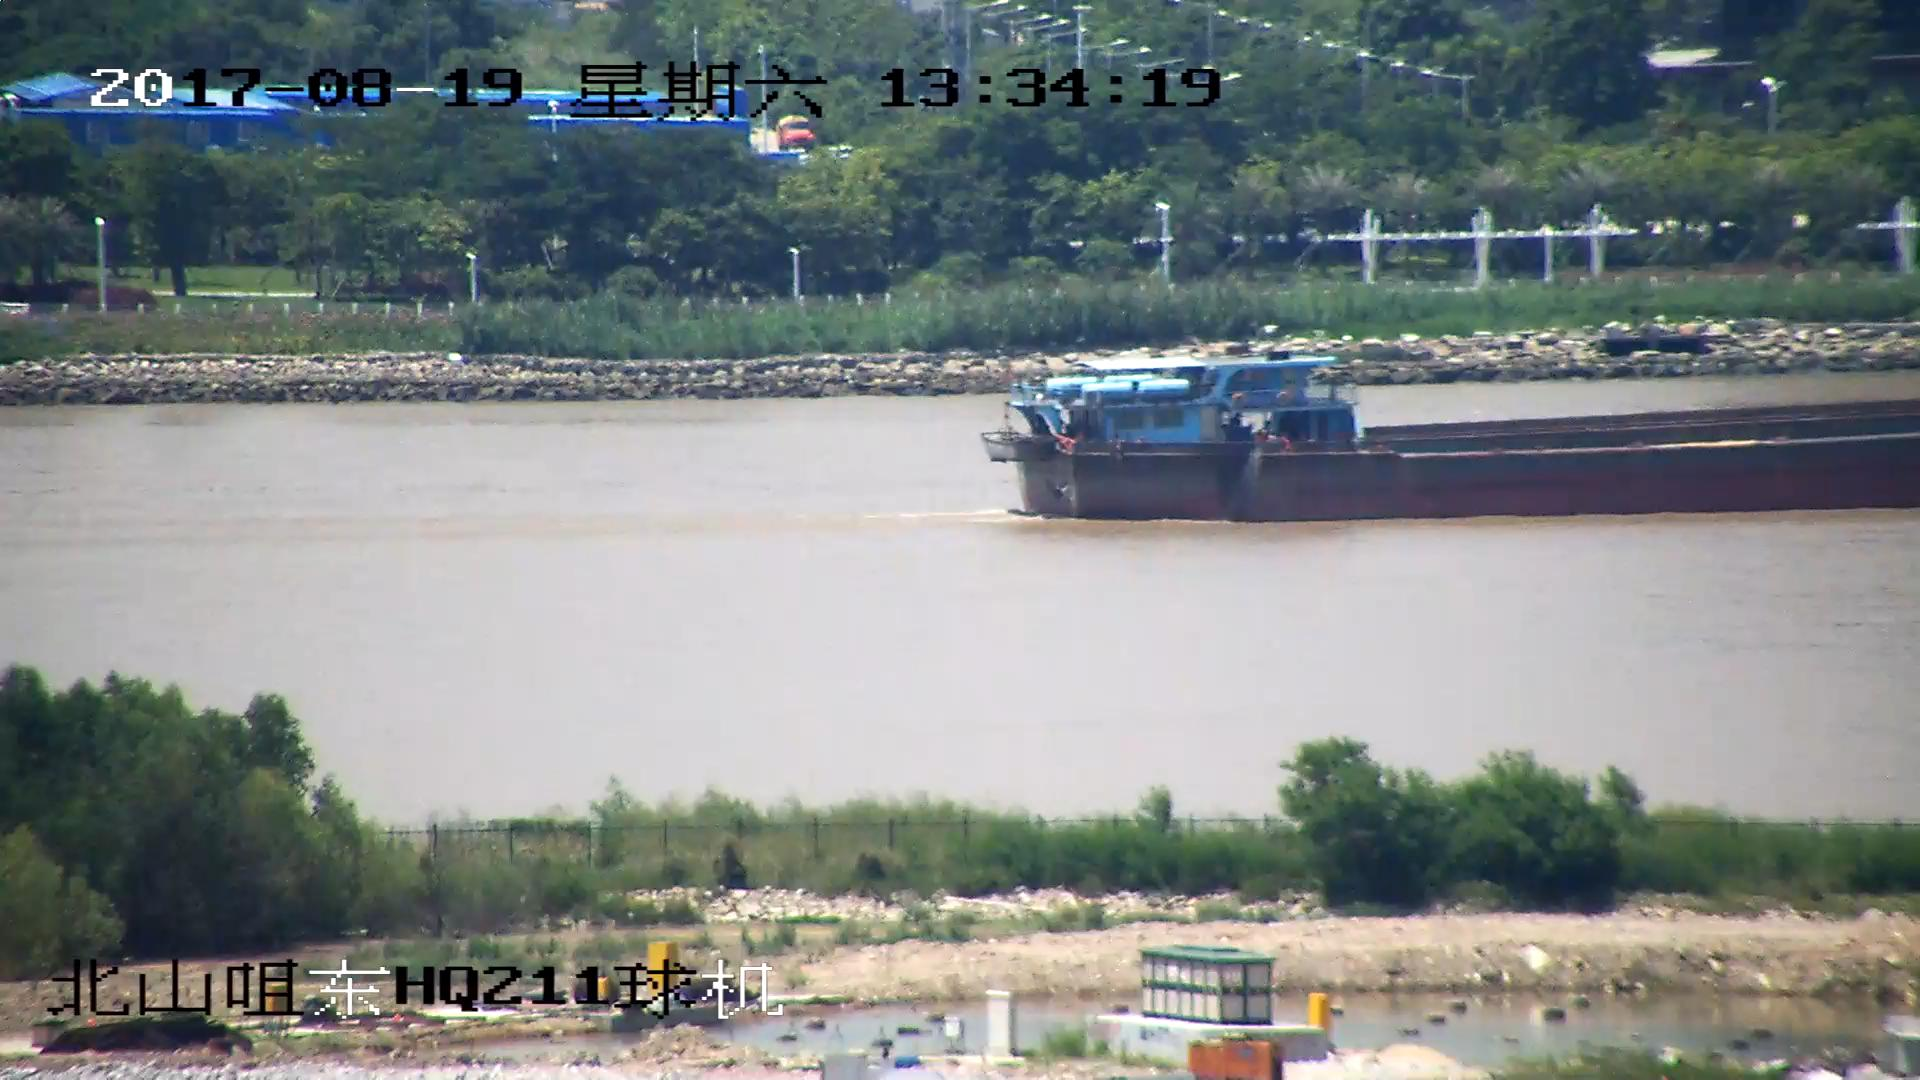bulk cargo carrier: (984, 359, 1920, 519)
